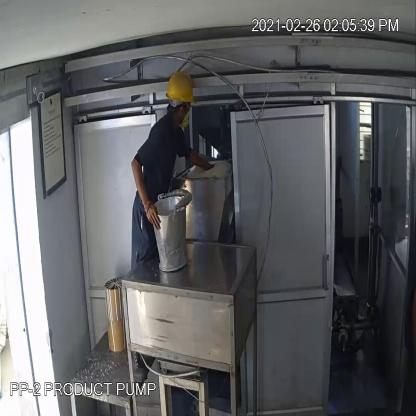helmet: (162, 65, 196, 108)
